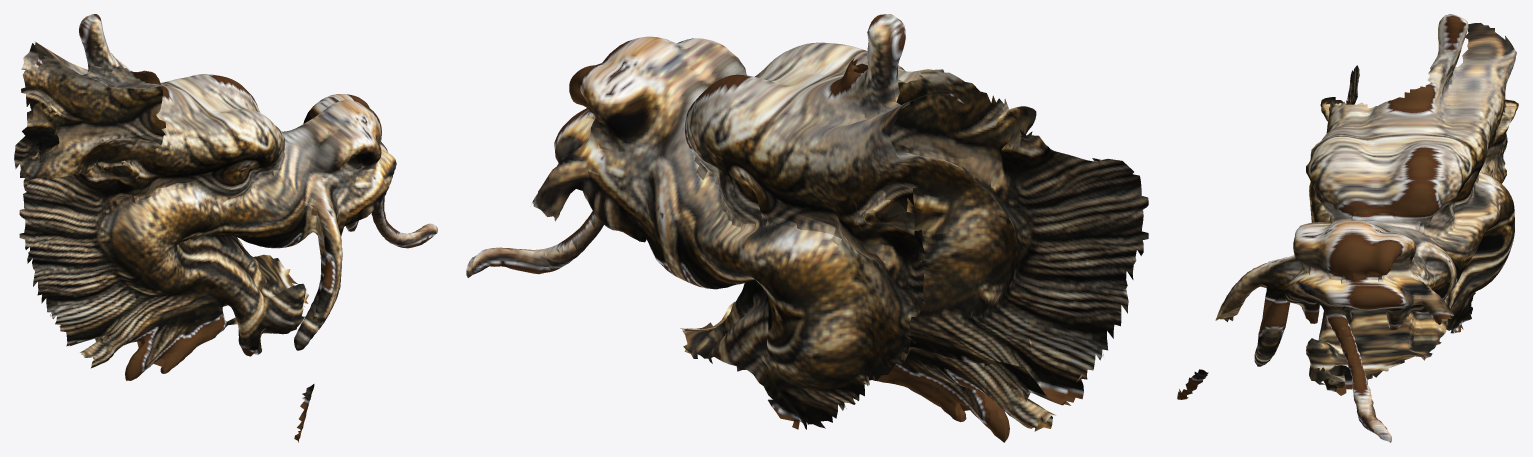
Rendered from Dragon_Head.glb.
3 renders of one model, left to right at view 1: azimuth 30°, elevation 25°; view 2: azimuth 150°, elevation 25°; view 3: azimuth 270°, elevation 25°, orthographic. The views are drawn at different scales.
Parts seen in each view (by area): view 1: Dragon_Head; view 2: Dragon_Head; view 3: Dragon_Head.
Boxes of the visible parts, x1=… form: Dragon_Head: x1=14, y1=14, x2=437, y2=442; Dragon_Head: x1=466, y1=14, x2=1148, y2=442; Dragon_Head: x1=1177, y1=14, x2=1518, y2=442.
Size of the model in its own units: 0.1347 by 0.1021 by 0.0904.
Materials: 1 (1 with a texture image).
